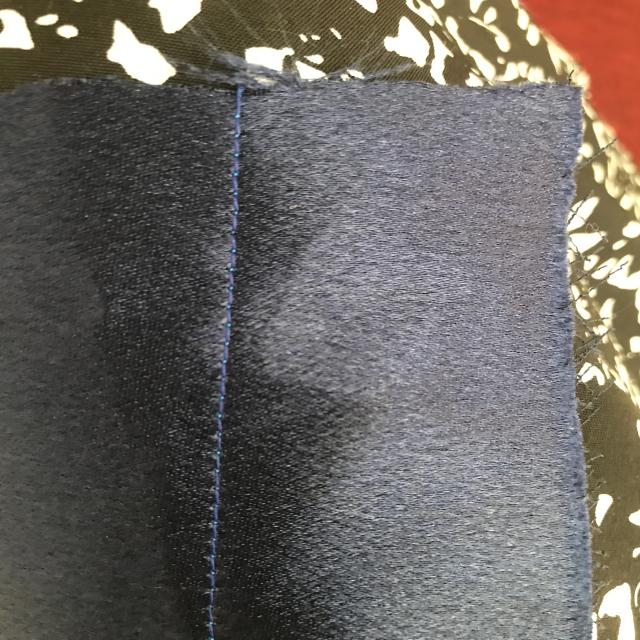good: (206, 401, 229, 550), (225, 174, 248, 270)
